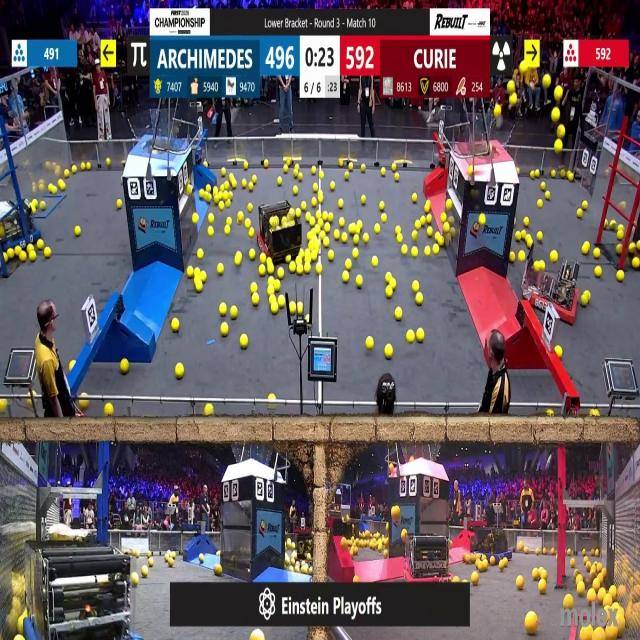ball_airborne: (391, 507, 400, 521), (552, 108, 561, 121), (557, 126, 565, 140), (555, 88, 563, 102), (541, 75, 550, 87), (556, 140, 564, 152), (510, 94, 518, 106), (506, 81, 514, 92), (494, 105, 501, 117), (521, 62, 527, 73)
ball_ground: (526, 614, 538, 636), (119, 358, 128, 373), (581, 628, 592, 640), (176, 362, 184, 378), (564, 595, 573, 609), (105, 405, 114, 418), (385, 345, 393, 359), (172, 318, 180, 332), (582, 291, 590, 305), (588, 590, 596, 604), (594, 629, 605, 639), (416, 328, 424, 341), (470, 571, 478, 584), (517, 576, 525, 589), (79, 397, 88, 408), (241, 336, 248, 350), (231, 307, 239, 319), (220, 323, 228, 335), (205, 406, 213, 418), (278, 295, 286, 307), (576, 584, 584, 596), (193, 281, 201, 293), (132, 572, 140, 584), (235, 252, 242, 265), (395, 308, 402, 321), (220, 304, 227, 317), (258, 266, 266, 277), (214, 564, 222, 575), (271, 304, 279, 315), (18, 251, 26, 262), (538, 568, 546, 579), (538, 582, 545, 594), (416, 292, 423, 304), (365, 338, 372, 350), (595, 267, 602, 279), (289, 303, 296, 315), (556, 346, 563, 358), (343, 272, 350, 284), (408, 332, 415, 344), (583, 243, 590, 255), (0, 398, 6, 412), (268, 264, 275, 276), (275, 280, 282, 292), (618, 272, 626, 282), (186, 268, 194, 278), (304, 265, 312, 275), (518, 251, 526, 261), (334, 232, 342, 242), (594, 248, 601, 259), (386, 286, 393, 297), (277, 269, 284, 280), (551, 251, 558, 262), (413, 281, 420, 292), (252, 293, 258, 305), (356, 276, 362, 288), (464, 554, 472, 563), (269, 294, 277, 303), (193, 268, 199, 280), (316, 265, 323, 275), (29, 251, 36, 261), (259, 253, 266, 263), (115, 200, 122, 210), (198, 249, 205, 259), (507, 252, 514, 262), (348, 223, 355, 233), (36, 241, 43, 251), (295, 266, 302, 276), (618, 231, 625, 241), (141, 567, 148, 577), (499, 560, 506, 570), (420, 216, 427, 226), (13, 248, 20, 258), (217, 265, 223, 276), (296, 304, 302, 315), (44, 247, 50, 258), (633, 257, 639, 268), (386, 273, 392, 284), (532, 568, 538, 579), (202, 272, 208, 283), (353, 248, 359, 259), (323, 222, 330, 231), (49, 184, 56, 193), (482, 562, 489, 571), (412, 247, 418, 257), (371, 256, 377, 266), (401, 246, 407, 256), (524, 216, 530, 226), (323, 238, 329, 248), (74, 225, 80, 235), (340, 217, 346, 227), (346, 261, 352, 271), (249, 250, 255, 260), (432, 244, 438, 254), (618, 245, 624, 255), (60, 180, 66, 190), (327, 250, 333, 260), (426, 214, 432, 224), (191, 214, 197, 224), (251, 282, 257, 292), (289, 264, 295, 274), (396, 235, 402, 245), (445, 222, 451, 232), (312, 198, 318, 208), (526, 238, 532, 248), (342, 234, 348, 244), (327, 212, 333, 222), (312, 251, 318, 261), (306, 212, 312, 222), (425, 201, 430, 213), (434, 233, 440, 243), (318, 192, 324, 202), (538, 262, 544, 272), (322, 211, 328, 221), (269, 286, 276, 294), (291, 186, 298, 194), (269, 392, 276, 400), (205, 192, 212, 200), (363, 234, 368, 245), (380, 202, 386, 211), (413, 232, 419, 241), (395, 224, 401, 233), (442, 213, 448, 222), (218, 202, 224, 211), (427, 229, 433, 238), (208, 226, 214, 235), (540, 182, 546, 191), (390, 280, 396, 289), (310, 217, 316, 226), (242, 179, 248, 188), (238, 212, 244, 221), (7, 249, 13, 258), (354, 236, 359, 246), (517, 232, 522, 242), (447, 200, 452, 210), (440, 237, 445, 247), (187, 184, 192, 194), (635, 242, 640, 252), (583, 202, 589, 210), (248, 182, 254, 190), (220, 168, 226, 176), (381, 214, 387, 222), (299, 203, 305, 211), (269, 277, 275, 285), (264, 162, 270, 170), (534, 170, 540, 178), (232, 180, 238, 188), (357, 220, 363, 228), (348, 164, 354, 172), (222, 191, 228, 199), (226, 194, 232, 202), (490, 557, 496, 565), (316, 212, 322, 220), (591, 412, 599, 418), (244, 219, 250, 227), (267, 255, 273, 263), (165, 555, 171, 563), (537, 233, 542, 242), (413, 192, 418, 201), (394, 173, 399, 182), (224, 225, 229, 234), (576, 209, 581, 218), (249, 230, 254, 239), (425, 247, 430, 256), (209, 214, 214, 223), (544, 190, 549, 199), (360, 194, 365, 203), (568, 173, 573, 182), (319, 231, 324, 240), (319, 171, 324, 180), (353, 575, 359, 582), (225, 217, 231, 224), (454, 575, 460, 582), (223, 182, 229, 189), (286, 255, 292, 262), (28, 245, 34, 252), (546, 411, 552, 418), (376, 224, 381, 232), (106, 160, 111, 168), (537, 200, 542, 208), (200, 554, 205, 562), (278, 179, 283, 187), (306, 315, 311, 323), (381, 168, 386, 176), (244, 162, 249, 170), (148, 559, 153, 567), (65, 170, 70, 178), (345, 172, 350, 180), (40, 202, 45, 210), (201, 188, 205, 198), (552, 171, 557, 179), (297, 174, 302, 182), (88, 164, 93, 172), (530, 171, 535, 179), (309, 241, 314, 249), (295, 209, 300, 217), (298, 249, 303, 257), (225, 200, 230, 208), (567, 550, 572, 558), (340, 200, 344, 209), (330, 181, 334, 190), (416, 220, 420, 229), (308, 232, 312, 241), (170, 558, 174, 567), (524, 546, 530, 552), (72, 167, 77, 174), (360, 166, 365, 173), (570, 560, 575, 567), (312, 168, 317, 175), (293, 162, 298, 169), (207, 185, 212, 192), (314, 183, 318, 191), (284, 166, 288, 174), (252, 176, 256, 184), (392, 165, 396, 173), (81, 164, 85, 172), (205, 162, 209, 170), (552, 550, 557, 556), (248, 205, 252, 212), (515, 166, 519, 173), (340, 161, 344, 168), (15, 636, 22, 640), (582, 550, 586, 557), (536, 550, 540, 557), (32, 208, 36, 215), (148, 553, 152, 559), (217, 552, 220, 557)
goal: (462, 118, 517, 158), (129, 115, 186, 152)
robot_blue: (32, 551, 134, 640), (0, 200, 29, 252), (472, 527, 512, 561)
robot_red: (523, 258, 580, 325), (258, 200, 302, 258), (410, 536, 452, 586)
